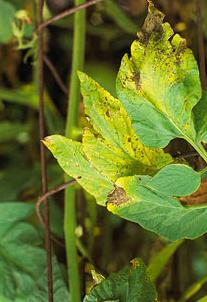Tomato Septoria leaf spot: (113, 1, 202, 144), (77, 65, 174, 192), (36, 122, 150, 220)
